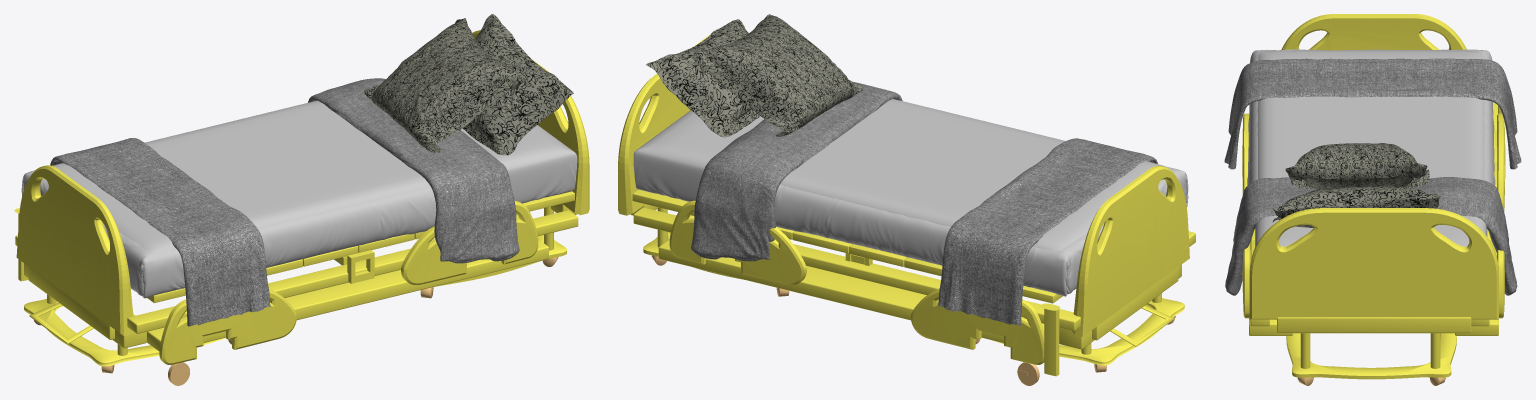
The model's file is Bed.fbx.
The picture shows the model from 3 angles, left to right: view 1: azimuth 30°, elevation 25°; view 2: azimuth 150°, elevation 25°; view 3: azimuth 270°, elevation 25°; orthographic projection.
Visible parts, largest first — view 1: bed01; view 2: bed01; view 3: bed01.
Boxes of the visible parts, bbox=[...] form: bed01: bbox=[14, 14, 589, 385]; bed01: bbox=[618, 14, 1195, 385]; bed01: bbox=[1224, 14, 1521, 385].
Bounding box in the file's own units: 223 × 94.71 × 121.
